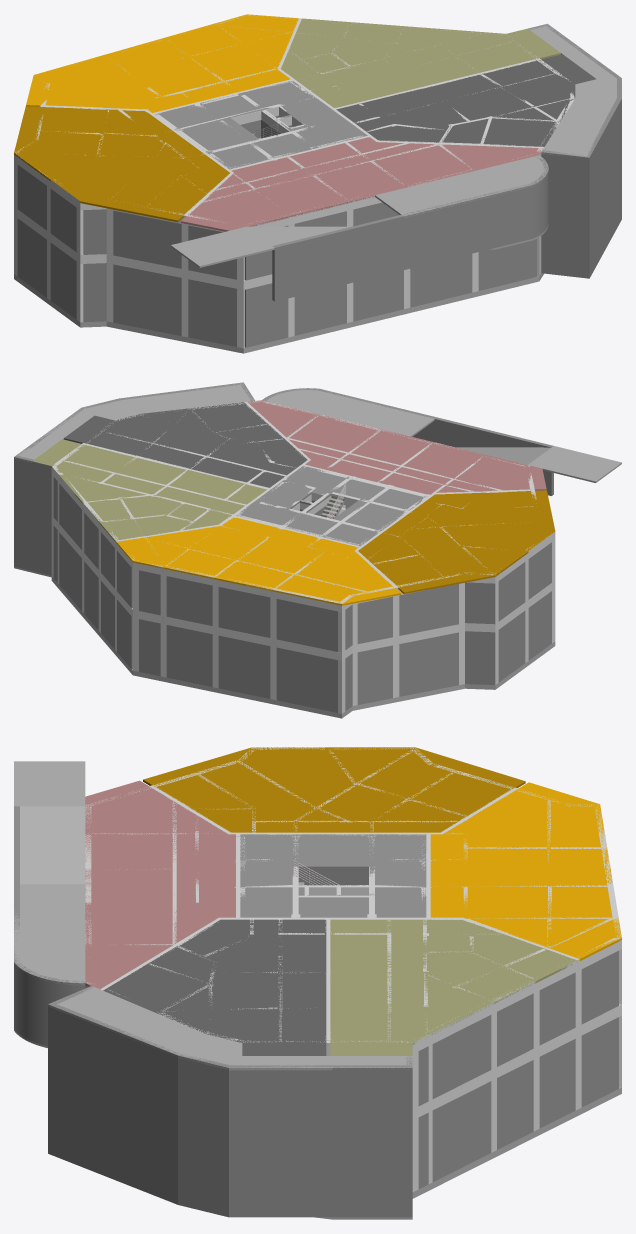
3 views of the same model, one above another, from view 1: azimuth 30°, elevation 25°; view 2: azimuth 150°, elevation 25°; view 3: azimuth 270°, elevation 25° (orthographic). The views are drawn at different scales.
Parts seen in each view (by area): view 1: product-4ca2939c-3e7c-44bf-b027-667177bcc86f-body, product-4ca2939c-3e7c-44bf-b027-667177bcc83f-body, product-4ca2939c-3e7c-44bf-b027-667177bcc9da-body, product-4ca2939c-3e7c-44bf-b027-667177bcc8f7-body, product-4ca2939c-3e7c-44bf-b027-667177bcc8a6-body, product-3b596948-129a-48fb-9c70-3611f0a5a805-body, product-4ca2939c-3e7c-44bf-b027-667177bccb6a-body, product-4f9de05d-2467-4846-97ae-e2747fa43523-body, product-afa2e2c0-8755-4b93-83d7-5b8e1e7de940-body, product-afa2e2c0-8755-4b93-83d7-5b8e1e7de9d1-body, product-4f9de05d-2467-4846-97ae-e2747fa4352e-body, product-3b596948-129a-48fb-9c70-3611f0a5ae22-body (+30 smaller); view 2: product-4ca2939c-3e7c-44bf-b027-667177bcc86f-body, product-4ca2939c-3e7c-44bf-b027-667177bcc83f-body, product-4ca2939c-3e7c-44bf-b027-667177bcc9da-body, product-4ca2939c-3e7c-44bf-b027-667177bcc8f7-body, product-4ca2939c-3e7c-44bf-b027-667177bcc8a6-body, product-4ca2939c-3e7c-44bf-b027-667177bccb6a-body, product-4f9de05d-2467-4846-97ae-e2747fa435da-body, product-afa2e2c0-8755-4b93-83d7-5b8e1e7de9d1-body, product-afa2e2c0-8755-4b93-83d7-5b8e1e7de940-body, product-3b596948-129a-48fb-9c70-3611f0a5ae31-body, product-3b596948-129a-48fb-9c70-3611f0a5afd9-body, product-3b596948-129a-48fb-9c70-3611f0a5ae30-body (+32 smaller); view 3: product-4ca2939c-3e7c-44bf-b027-667177bcc86f-body, product-4ca2939c-3e7c-44bf-b027-667177bcc83f-body, product-4ca2939c-3e7c-44bf-b027-667177bcc8f7-body, product-4ca2939c-3e7c-44bf-b027-667177bcc9da-body, product-4ca2939c-3e7c-44bf-b027-667177bcc8a6-body, product-4f9de05d-2467-4846-97ae-e2747fa4352e-body, product-4f9de05d-2467-4846-97ae-e2747fa435d4-body, product-4ca2939c-3e7c-44bf-b027-667177bccb6a-body, product-4f9de05d-2467-4846-97ae-e2747fa435df-body, product-afa2e2c0-8755-4b93-83d7-5b8e1e7de9d1-body, product-afa2e2c0-8755-4b93-83d7-5b8e1e7de940-body, product-4f9de05d-2467-4846-97ae-e2747fa43529-body (+20 smaller).
Boxes of the visible parts, <box> form: product-4ca2939c-3e7c-44bf-b027-667177bcc86f-body: <box>14,106,229,222</box>; product-4ca2939c-3e7c-44bf-b027-667177bcc83f-body: <box>26,14,298,112</box>; product-4ca2939c-3e7c-44bf-b027-667177bcc9da-body: <box>181,137,543,231</box>; product-4ca2939c-3e7c-44bf-b027-667177bcc8f7-body: <box>281,18,560,107</box>; product-4ca2939c-3e7c-44bf-b027-667177bcc8a6-body: <box>336,54,596,146</box>; product-3b596948-129a-48fb-9c70-3611f0a5a805-body: <box>272,192,495,301</box>; product-4ca2939c-3e7c-44bf-b027-667177bccb6a-body: <box>155,81,367,169</box>; product-4f9de05d-2467-4846-97ae-e2747fa43523-body: <box>541,150,590,278</box>; product-afa2e2c0-8755-4b93-83d7-5b8e1e7de940-body: <box>375,155,548,217</box>; product-afa2e2c0-8755-4b93-83d7-5b8e1e7de9d1-body: <box>529,24,621,158</box>; product-4f9de05d-2467-4846-97ae-e2747fa4352e-body: <box>587,98,621,275</box>; product-3b596948-129a-48fb-9c70-3611f0a5ae22-body: <box>113,264,181,335</box>; product-4ca2939c-3e7c-44bf-b027-667177bcc86f-body: <box>358,490,555,593</box>; product-4ca2939c-3e7c-44bf-b027-667177bcc83f-body: <box>116,517,401,605</box>; product-4ca2939c-3e7c-44bf-b027-667177bcc9da-body: <box>247,400,546,494</box>; product-4ca2939c-3e7c-44bf-b027-667177bcc8f7-body: <box>33,439,266,541</box>; product-4ca2939c-3e7c-44bf-b027-667177bcc8a6-body: <box>64,402,307,487</box>; product-4ca2939c-3e7c-44bf-b027-667177bccb6a-body: <box>235,466,426,546</box>; product-4f9de05d-2467-4846-97ae-e2747fa435da-body: <box>14,455,51,575</box>; product-afa2e2c0-8755-4b93-83d7-5b8e1e7de9d1-body: <box>14,382,253,462</box>; product-afa2e2c0-8755-4b93-83d7-5b8e1e7de940-body: <box>265,388,435,436</box>; product-3b596948-129a-48fb-9c70-3611f0a5ae31-body: <box>276,647,337,712</box>; product-3b596948-129a-48fb-9c70-3611f0a5afd9-body: <box>399,632,458,696</box>; product-3b596948-129a-48fb-9c70-3611f0a5ae30-body: <box>218,635,270,698</box>; product-4ca2939c-3e7c-44bf-b027-667177bcc86f-body: <box>143,747,525,832</box>; product-4ca2939c-3e7c-44bf-b027-667177bcc83f-body: <box>430,782,621,960</box>; product-4ca2939c-3e7c-44bf-b027-667177bcc8f7-body: <box>330,919,577,1055</box>; product-4ca2939c-3e7c-44bf-b027-667177bcc9da-body: <box>85,780,235,989</box>; product-4ca2939c-3e7c-44bf-b027-667177bcc8a6-body: <box>103,919,326,1055</box>; product-4f9de05d-2467-4846-97ae-e2747fa4352e-body: <box>52,1004,180,1204</box>; product-4f9de05d-2467-4846-97ae-e2747fa435d4-body: <box>218,1065,332,1217</box>; product-4ca2939c-3e7c-44bf-b027-667177bccb6a-body: <box>240,834,426,917</box>; product-4f9de05d-2467-4846-97ae-e2747fa435df-body: <box>332,1065,406,1217</box>; product-afa2e2c0-8755-4b93-83d7-5b8e1e7de9d1-body: <box>48,986,412,1070</box>; product-afa2e2c0-8755-4b93-83d7-5b8e1e7de940-body: <box>14,884,85,985</box>; product-4f9de05d-2467-4846-97ae-e2747fa43529-body: <box>178,1054,229,1214</box>.
Size of the model in its own units: 37.28 by 9.35 by 29.87.
